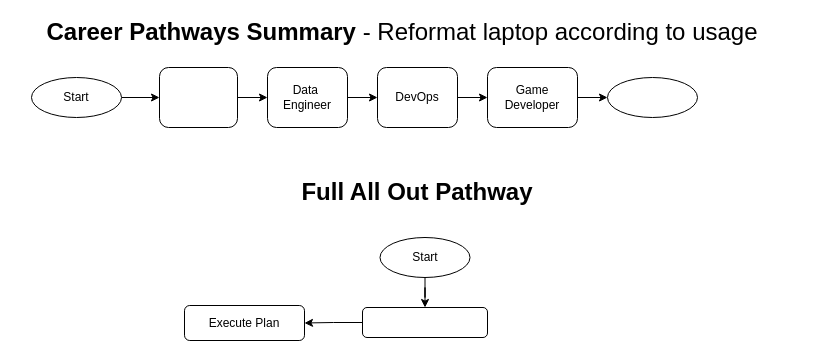
The diagram is 829 pixels wide and 358 high, and some of its shapes have lost their labels. Each missing label, with the centre of its shape:
End: the point at 652,97
Software Engineer: the point at 198,97
Turning 25: the point at 425,322
